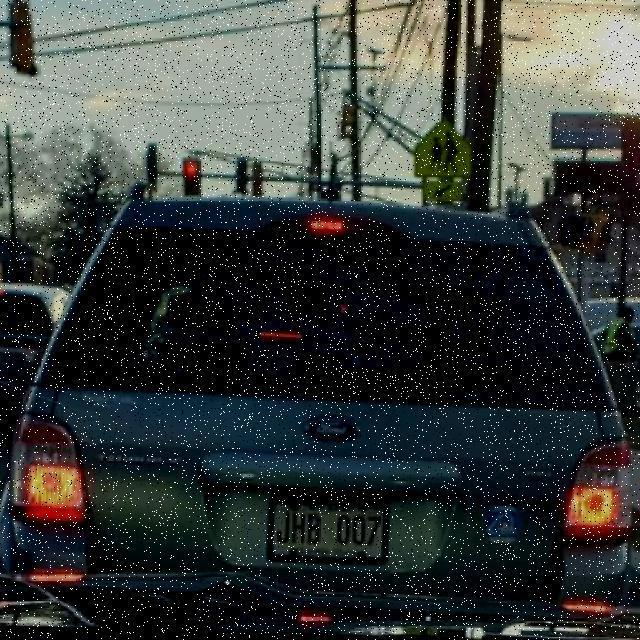LicensePlate: (265, 494, 389, 565)
